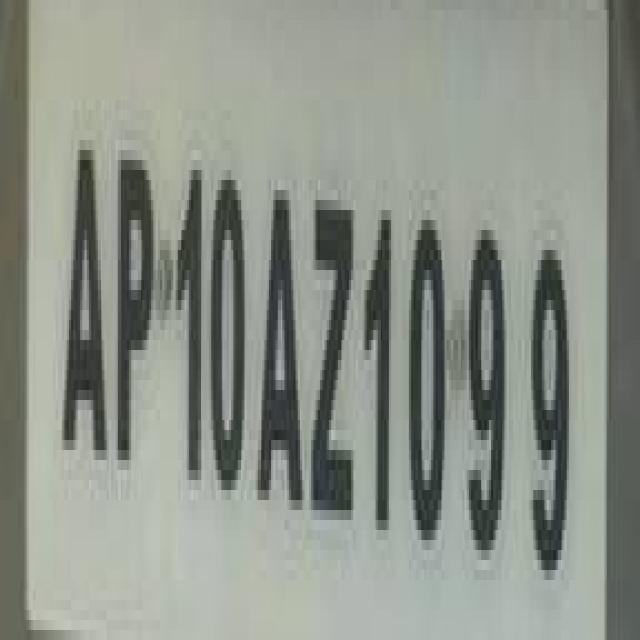plate: (31, 30, 633, 620)
